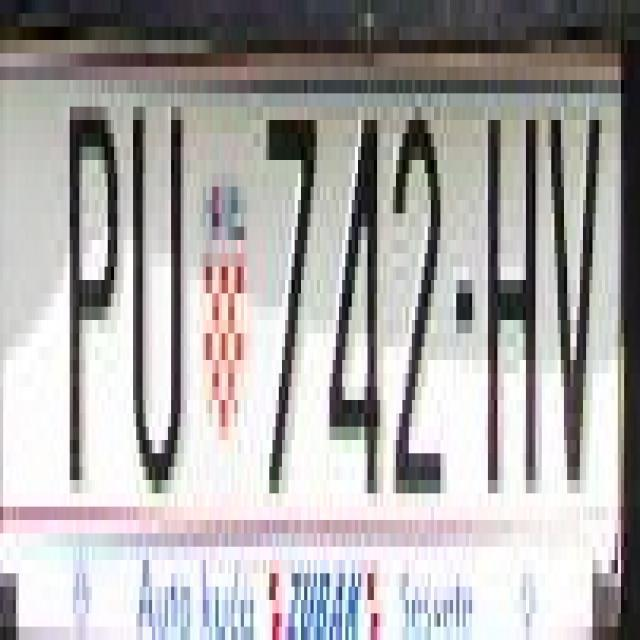2: (393, 106, 447, 506)
4: (320, 53, 383, 507)
7: (256, 94, 314, 494)
H: (478, 93, 542, 520)
P: (64, 80, 124, 493)
U: (126, 66, 190, 494)
V: (548, 94, 612, 494)
